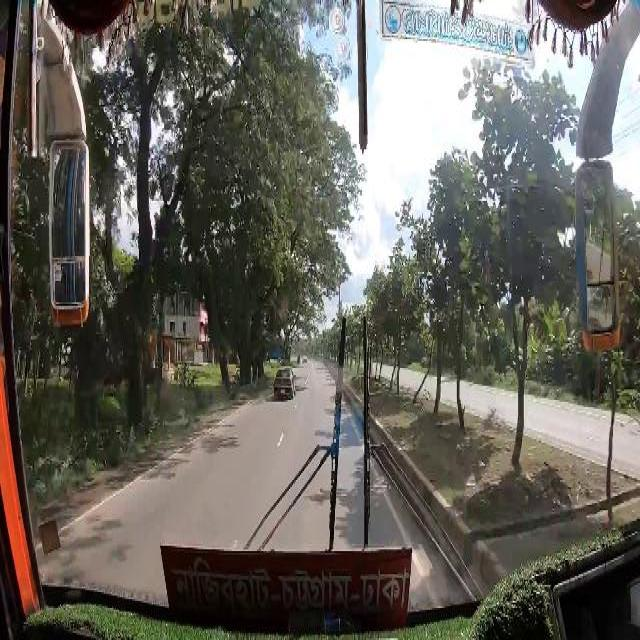car: (272, 368, 296, 396)
